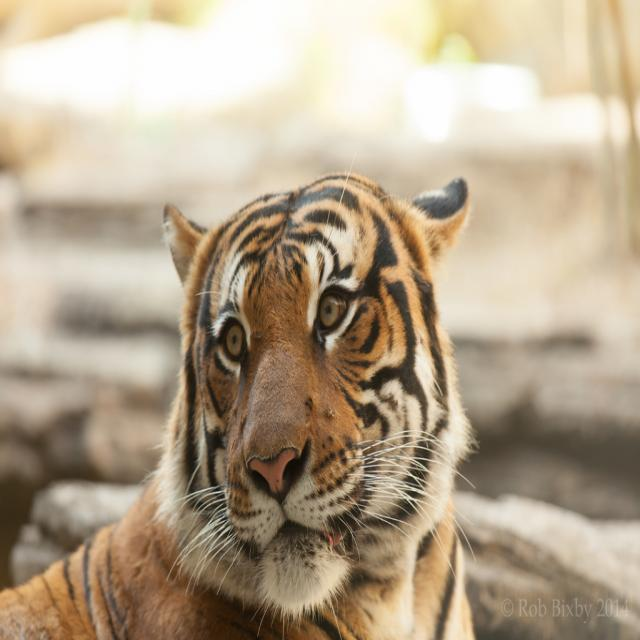Tiger: (1, 174, 485, 640)
